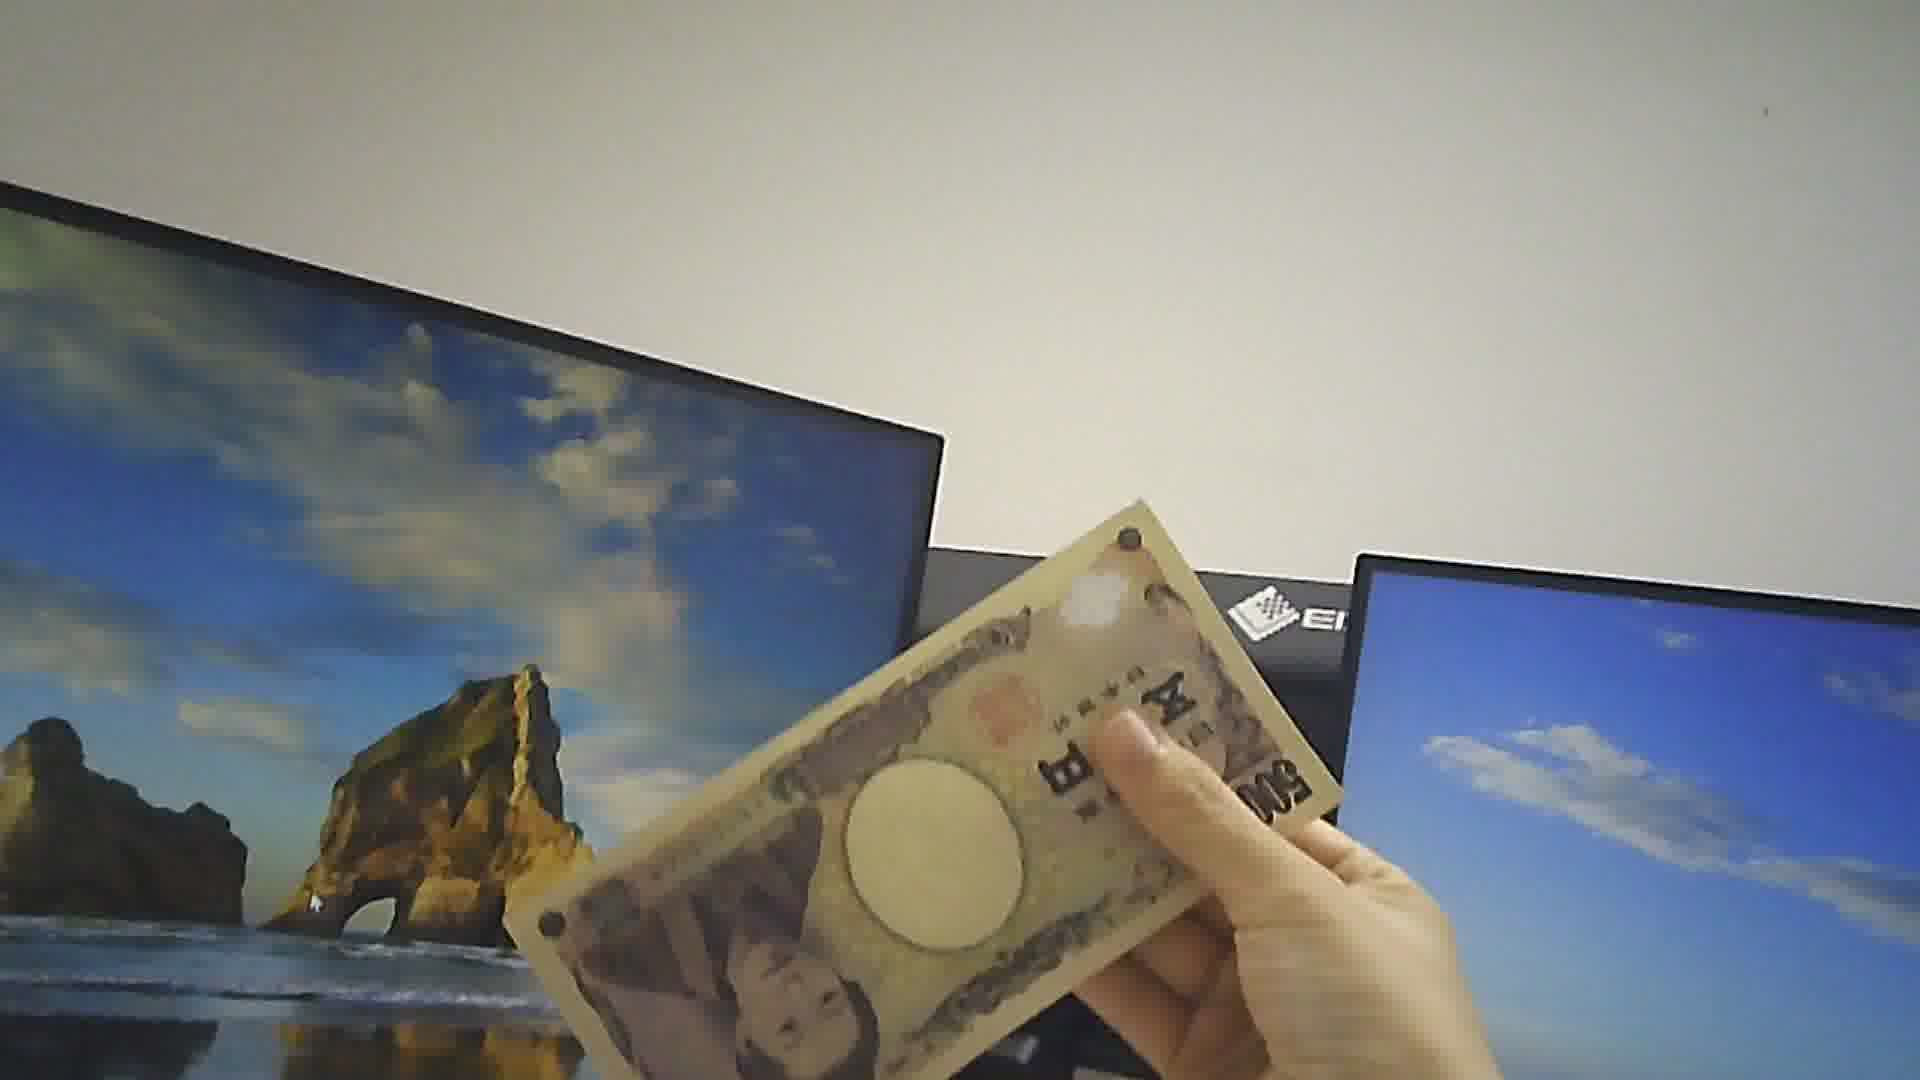5,000 Yen: (502, 506, 1381, 1036)
